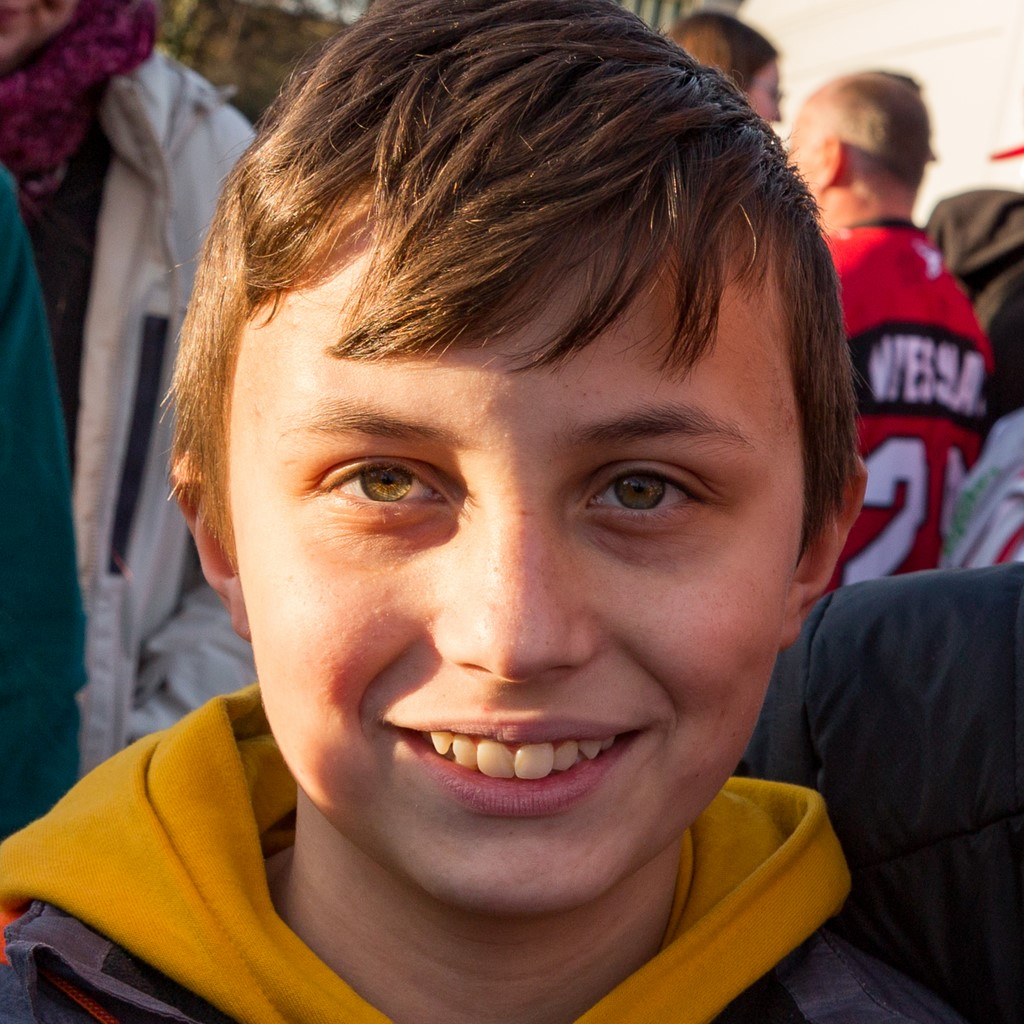sin_mascara: (233, 149, 805, 924)
